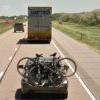Bicycle: (14, 50, 80, 81)
